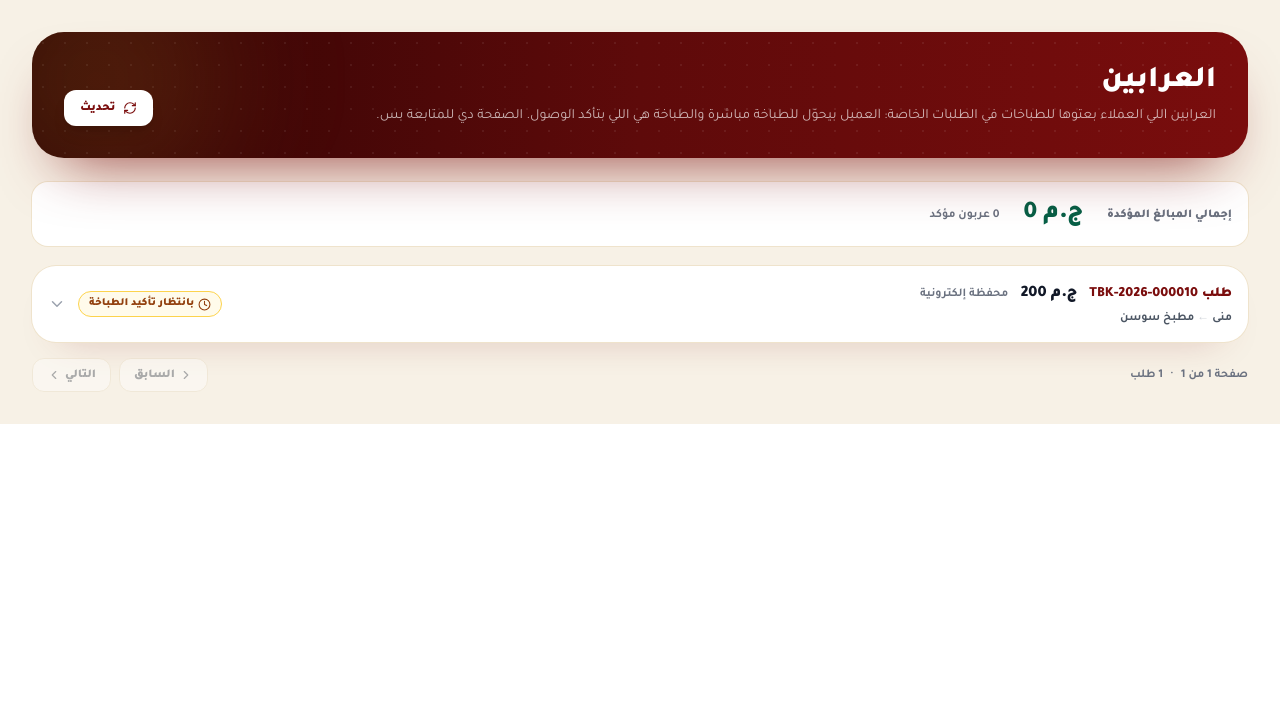
Test: deposits monitoring › lists each deposit as one compact row, and opens the full details on tap — no tabs, no actions
The image size is (1280, 720).
Check: the heading "طلب TBK-2026-000010" is shown, box [1089,284,1232,304]
Check: the text "منى ← مطبخ سوسن" is shown, box [1120,312,1232,324]
// Open: the proof, both phones, the account it was sent to, and the share of the price.
Click the button "طلب TBK-2026-000010": {"x": 1144, "y": 294} [32,266,1248,342]
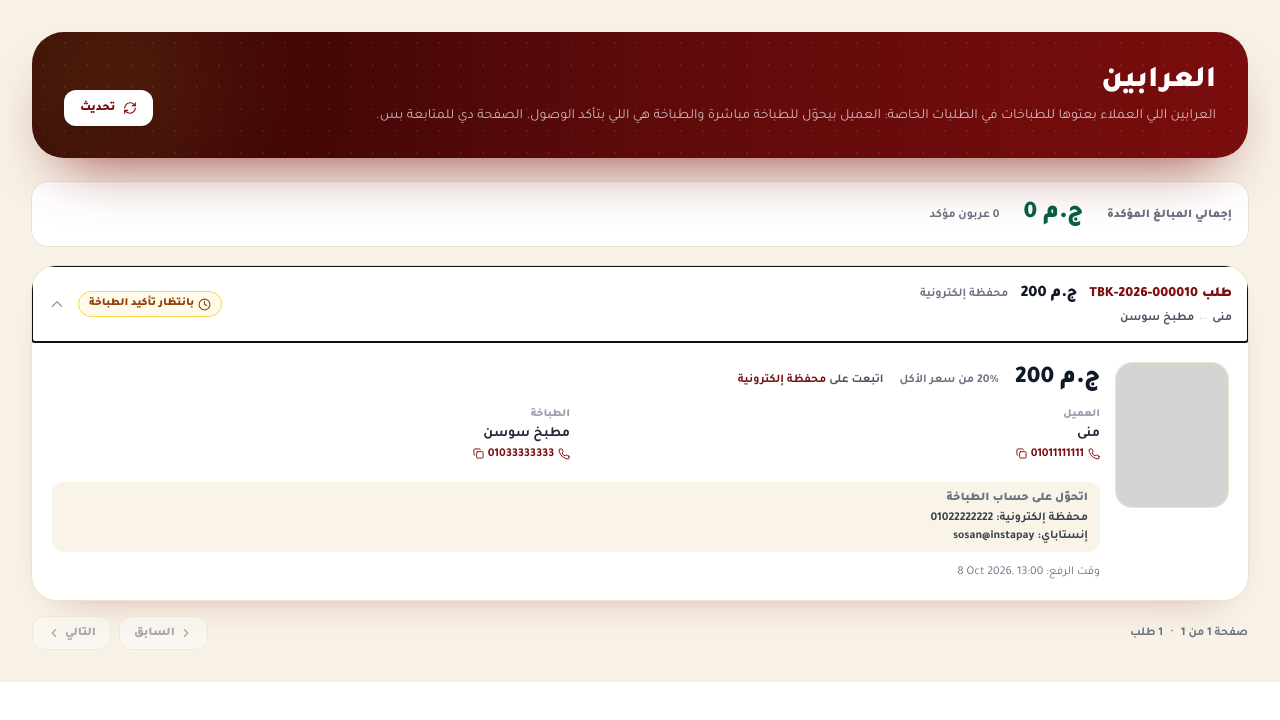
Check: the button "طلب TBK-2026-000010" is expanded, box [32,266,1248,342]
Check: the text "01022222222" is shown, box [930,512,993,524]
Check: the text "sosan@instapay" is shown, box [953,530,1035,542]
